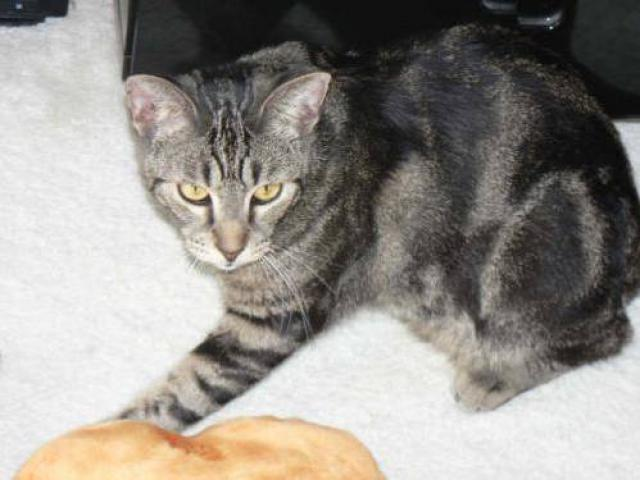cat: (80, 18, 637, 446)
